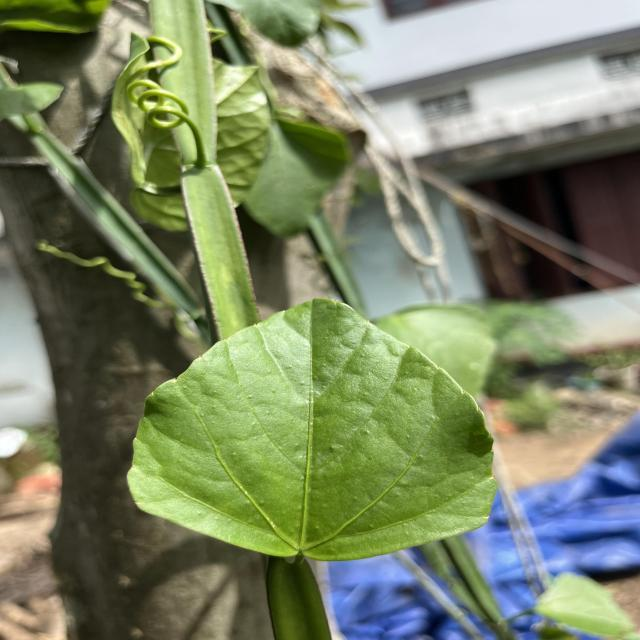Cissus quadrangularis: (121, 296, 501, 564)
